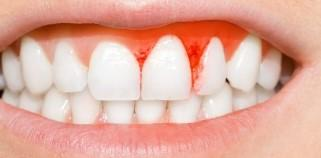Gingivitis: (173, 36, 215, 80), (127, 39, 163, 72), (218, 39, 250, 67)
